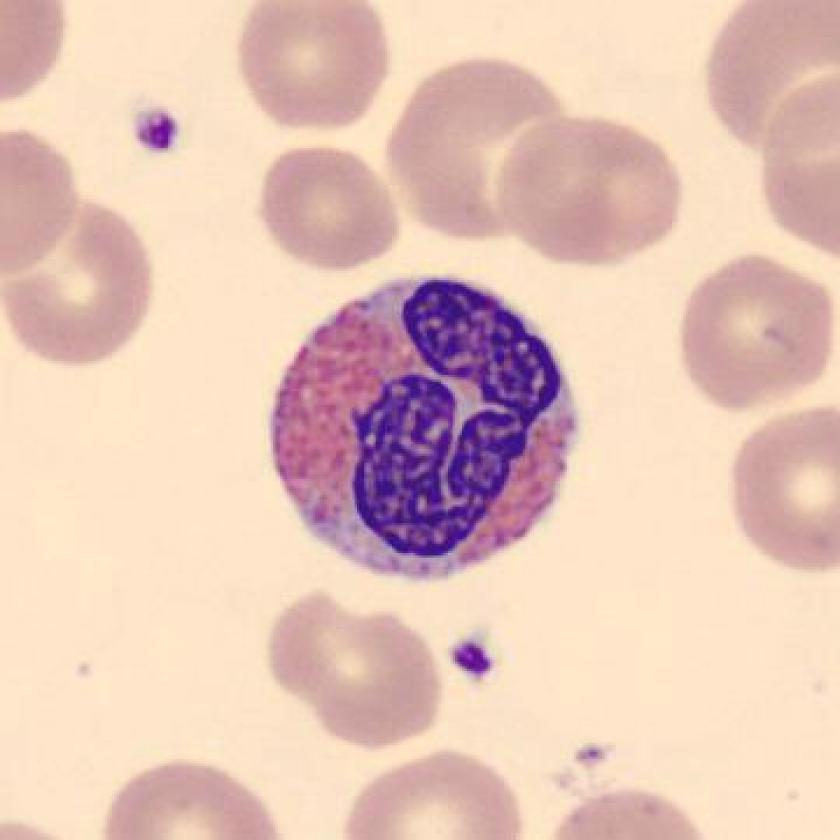eosinophil: (258, 265, 594, 593)
